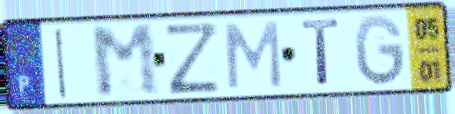G: (351, 12, 408, 90)
I: (53, 25, 70, 102)
M: (87, 22, 163, 101), (222, 19, 284, 92)
T: (299, 17, 343, 89)
Z: (162, 20, 222, 98)
